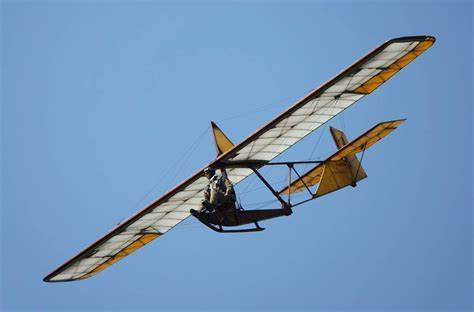Aeronef_de_loisir: (35, 32, 453, 292)
